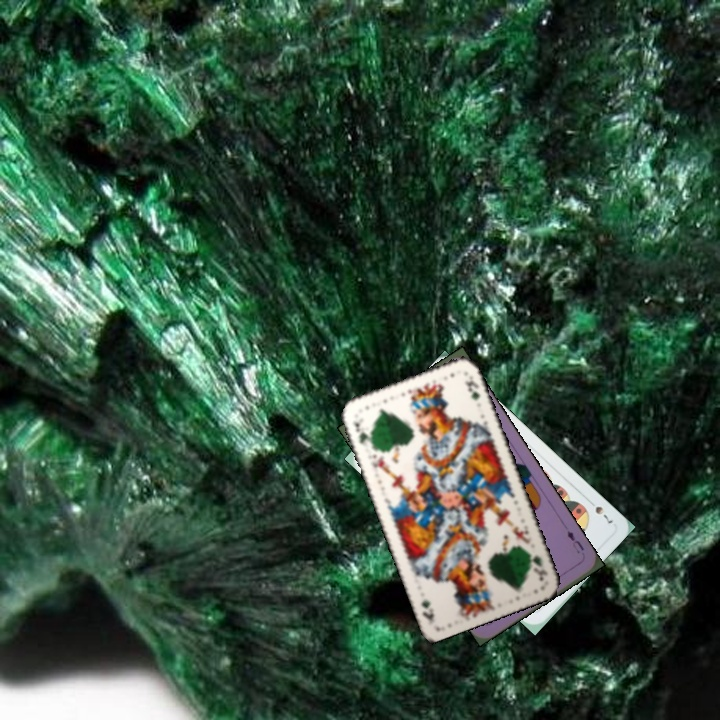EU: (563, 526, 587, 556)
GK: (523, 547, 550, 584), (350, 418, 374, 449)
S7: (591, 502, 615, 526)
